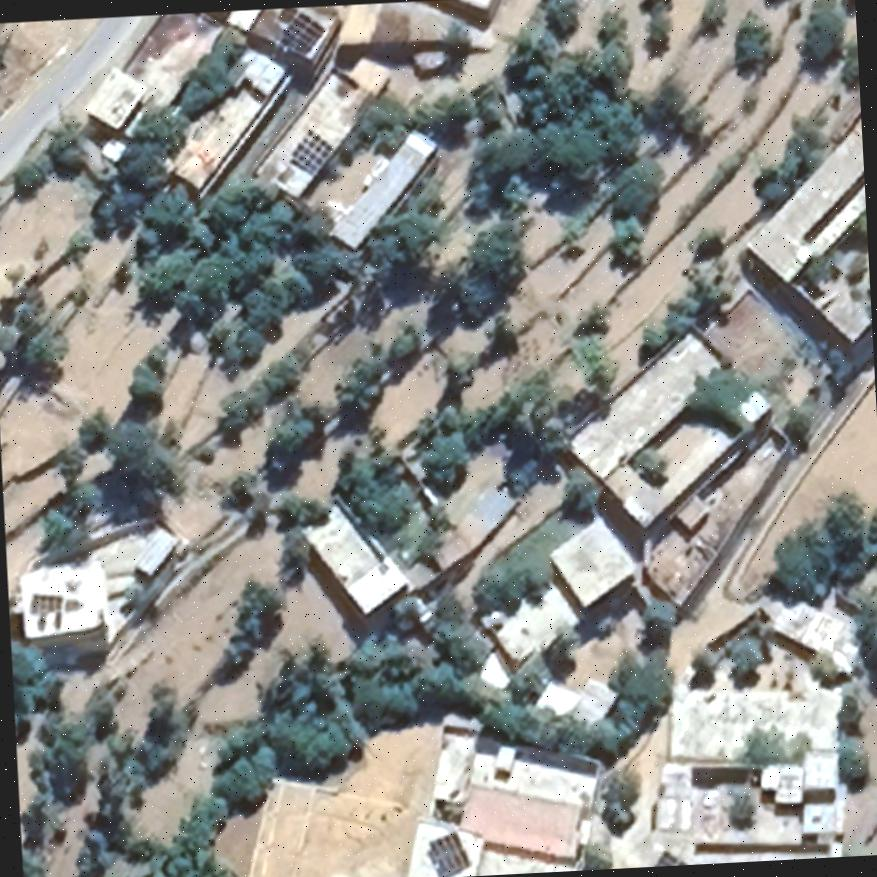Solarpanel: (274, 5, 326, 56), (285, 128, 335, 178), (423, 829, 469, 877), (649, 847, 687, 866)
